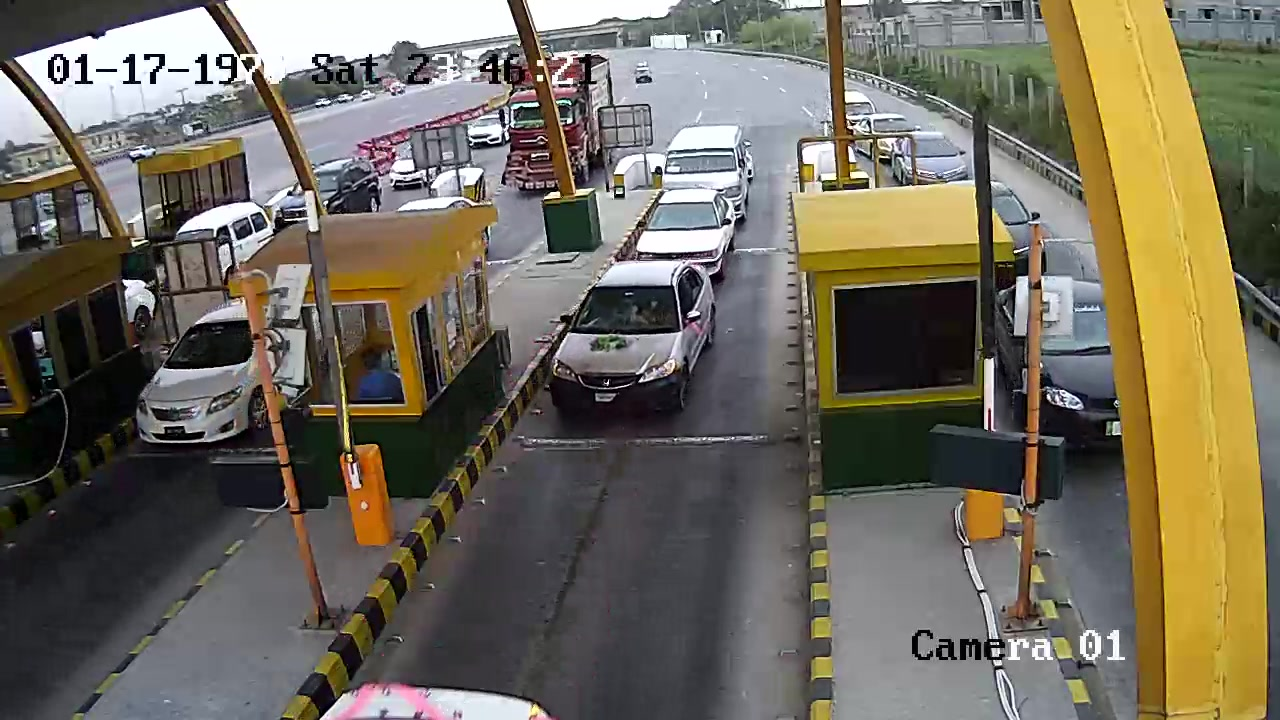F1: (539, 262, 721, 430)
